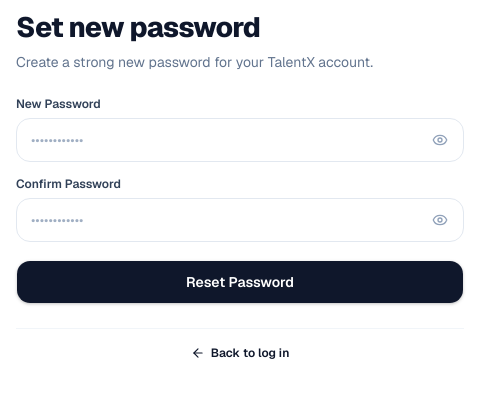
Test: ResetPasswordForm › shows validation error when passwords do not match
In the password field labelled "New Password": coordinates (240, 140) [16, 118, 464, 162], type "StrongPass123!"
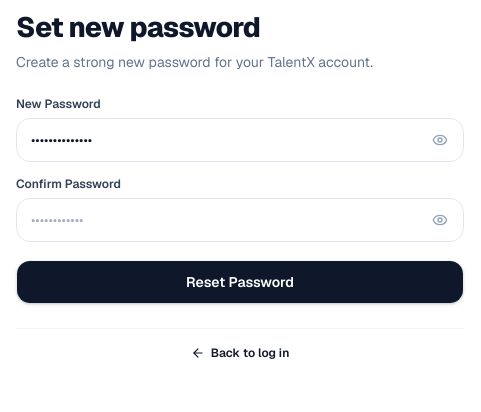
In the password field labelled "Confirm Password": coordinates (240, 220) [16, 198, 464, 242], type "DifferentPass123!"
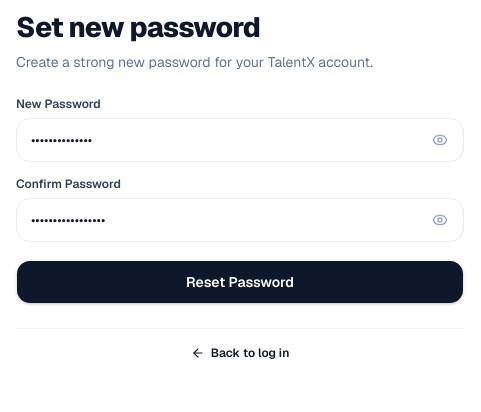
Click the button "Reset Password": coordinates (240, 282) [16, 260, 464, 304]
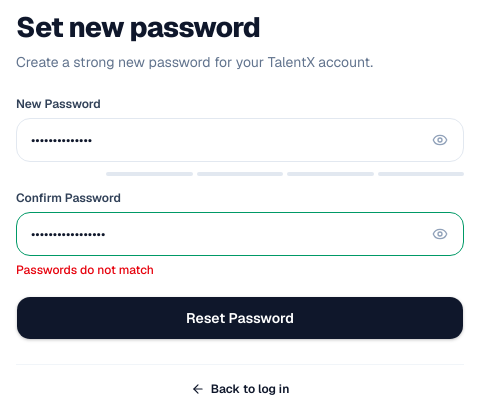
Now the text "Passwords do not match" is shown, box [16, 262, 154, 278]
